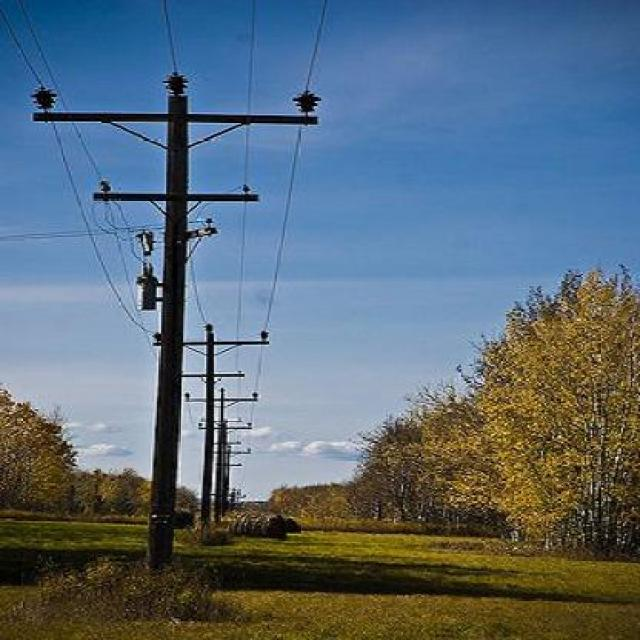pole: (30, 69, 332, 562), (190, 319, 272, 526)
